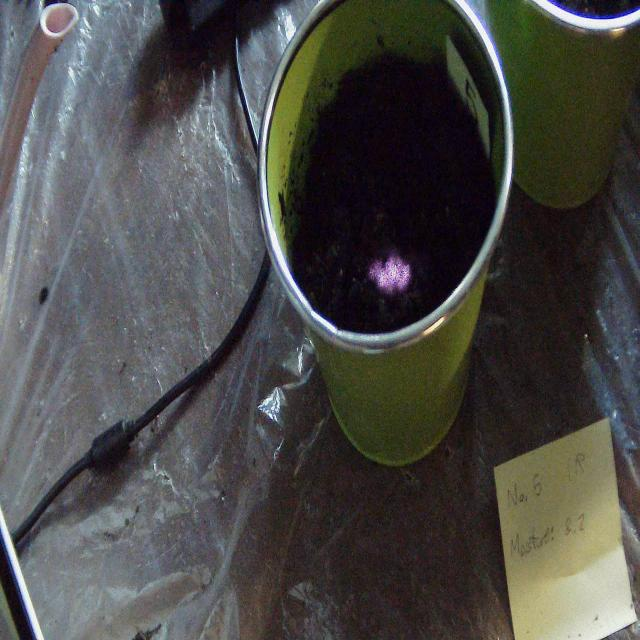soil-moisture-8.2: (369, 251, 411, 295)
